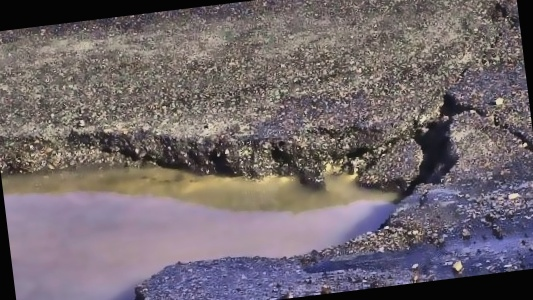pothole: (0, 76, 483, 300)
